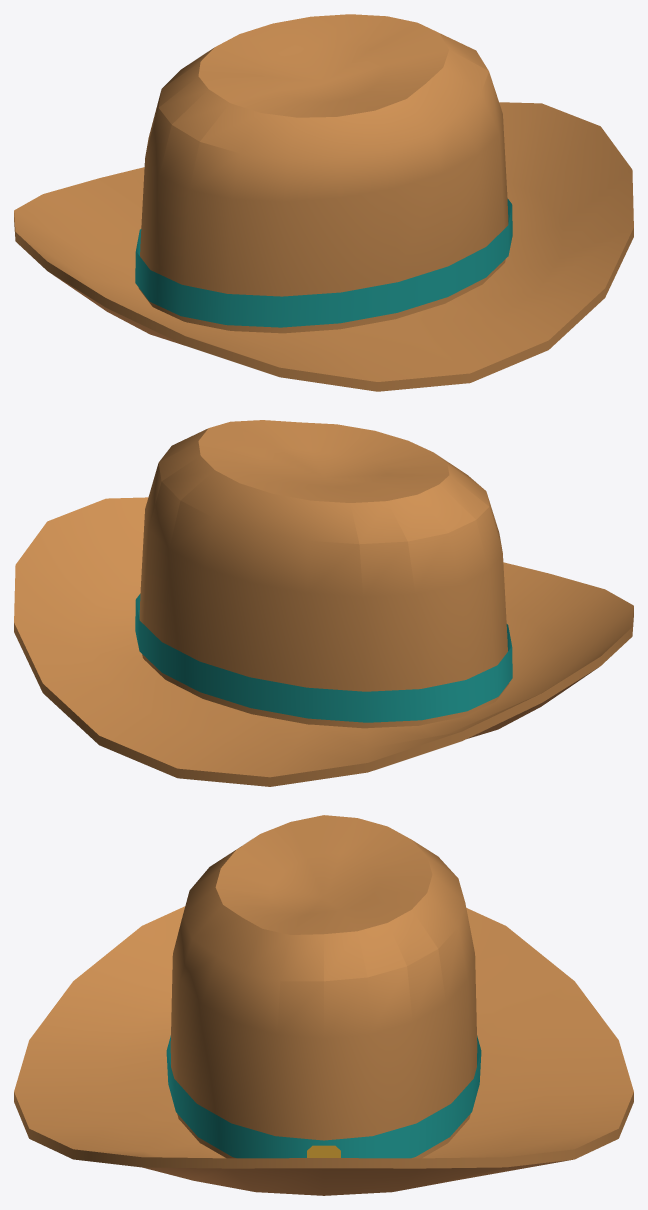
File: SombreroVaquero.fbx
The picture shows the model from 3 angles, top to bottom: view 1: azimuth 30°, elevation 25°; view 2: azimuth 150°, elevation 25°; view 3: azimuth 270°, elevation 25°; orthographic projection. The views are drawn at different scales.
Parts seen in each view (by area): view 1: SombreroVaquero; view 2: SombreroVaquero; view 3: SombreroVaquero.
Part boxes in pixels (<box>): SombreroVaquero: <box>14,14,633,391</box>; SombreroVaquero: <box>14,420,633,786</box>; SombreroVaquero: <box>14,815,633,1195</box>.
Size of the model in its own units: 2.4 by 0.89 by 2.2.
Materials: 1 (1 with a texture image).
